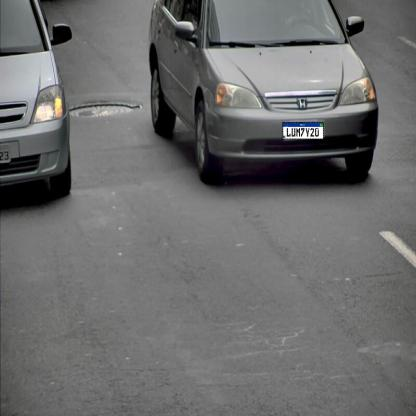PlacaM: (282, 122, 324, 139)
